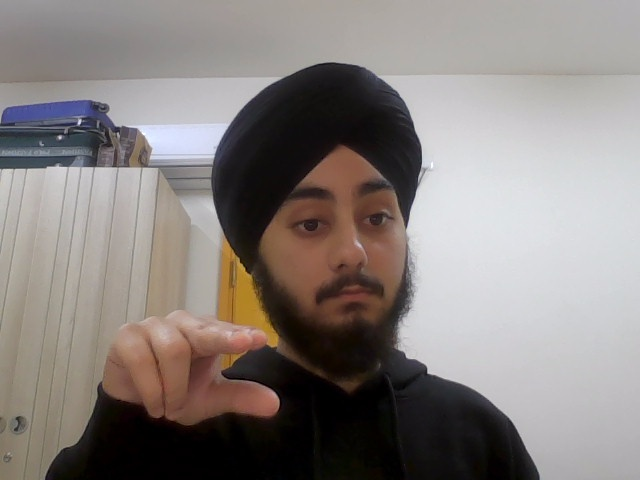No: (97, 306, 280, 431)
